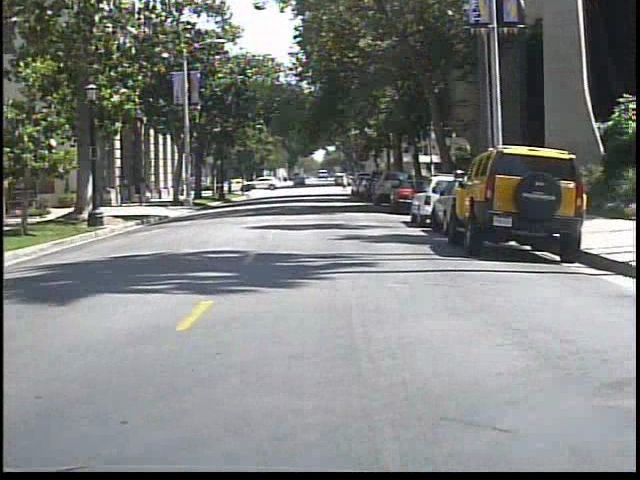person: (116, 174, 137, 208), (135, 176, 155, 208), (340, 171, 354, 195)
